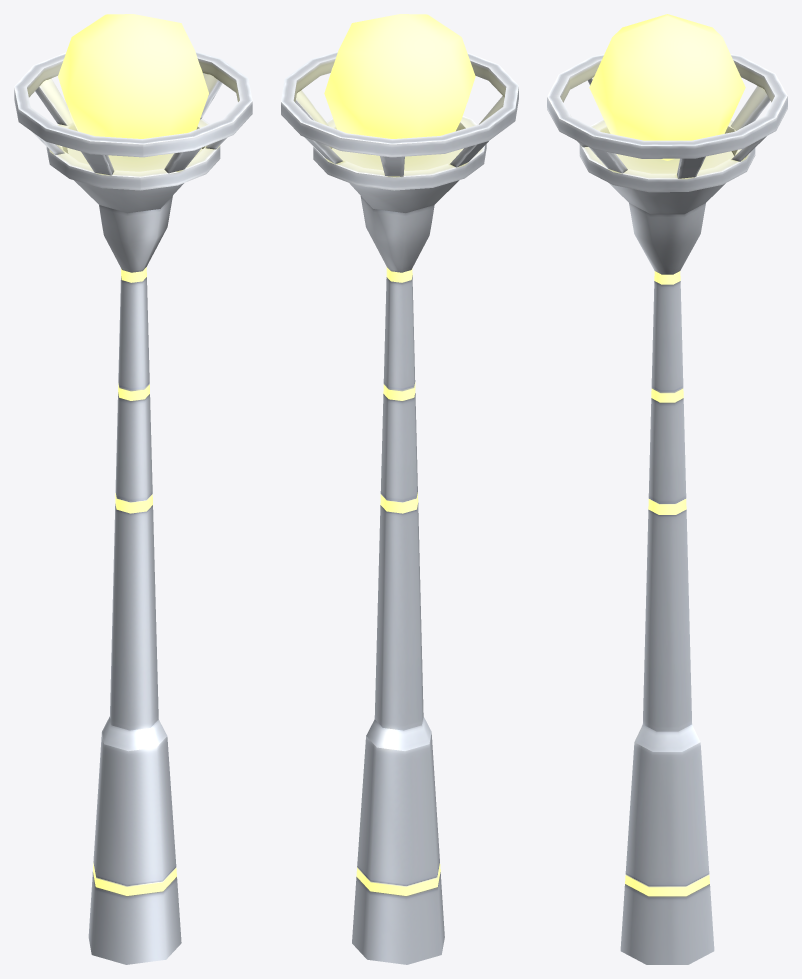
File: obj_light01.gltf
3 views of the same model, side by side, from view 1: azimuth 30°, elevation 25°; view 2: azimuth 150°, elevation 25°; view 3: azimuth 270°, elevation 25° (orthographic).
Visible parts, largest first — view 1: obj_light01; view 2: obj_light01; view 3: obj_light01.
Boxes of the visible parts, bbox=[...] form: obj_light01: bbox=[14, 14, 252, 964]; obj_light01: bbox=[281, 14, 518, 964]; obj_light01: bbox=[547, 14, 787, 964].
Size of what is drawn, in the model's own units: 0.5724 by 2.5 by 0.5862.
Materials: 2 (1 with a texture image).
